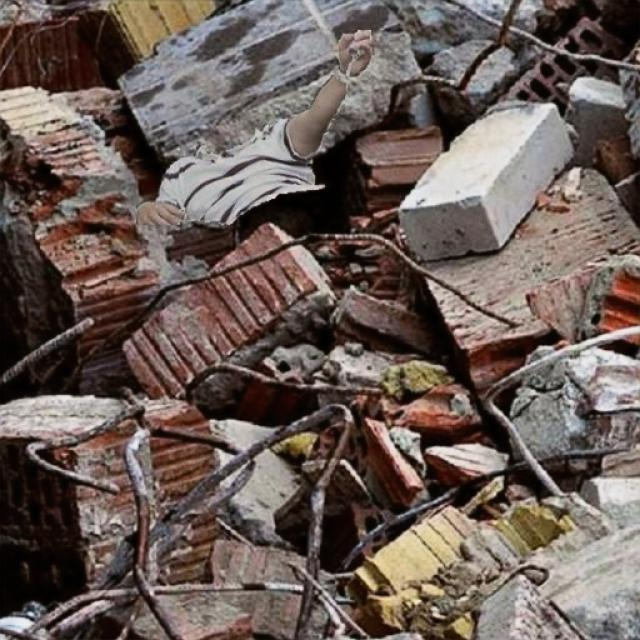Person in Rubble: (136, 30, 372, 224)
